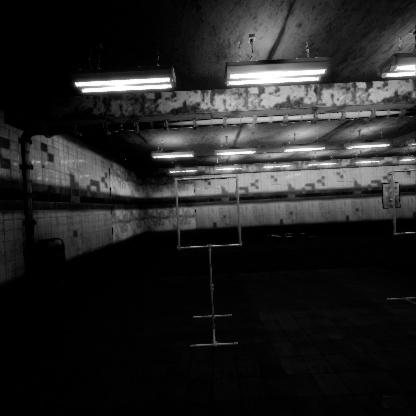gate: (174, 165, 247, 240), (390, 180, 416, 249)
